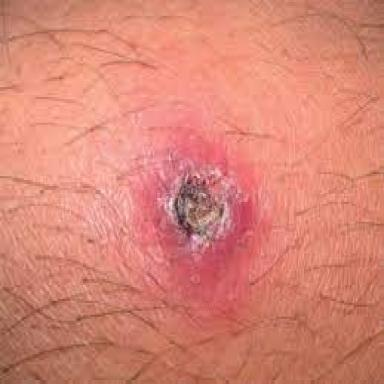Leishmanios: (147, 147, 250, 285)
